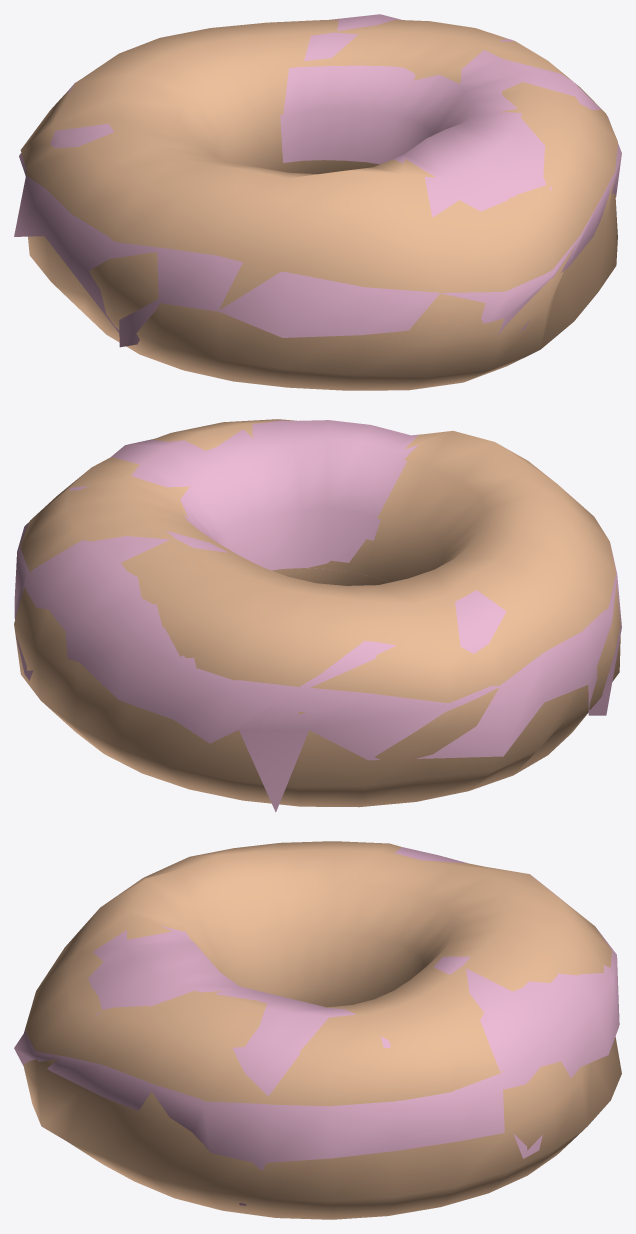
File: donut.gltf
The picture shows the model from 3 angles, top to bottom: view 1: azimuth 30°, elevation 25°; view 2: azimuth 150°, elevation 25°; view 3: azimuth 270°, elevation 25°; orthographic projection. The views are drawn at different scales.
Visible parts, largest first — view 1: Donut, Icing; view 2: Donut, Icing; view 3: Donut, Icing.
Part boxes in pixels (x1,y1,x2,y2): Donut: (20, 19, 617, 390); Icing: (14, 14, 621, 347); Donut: (14, 419, 620, 807); Icing: (14, 420, 621, 812); Donut: (24, 841, 621, 1219); Icing: (14, 847, 619, 1205).
Size of what is drawn, in the model's own units: 0.1488 by 0.0585 by 0.1502.
